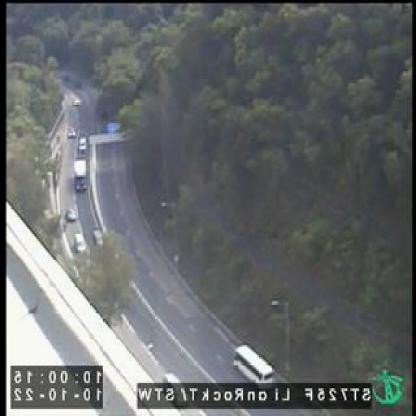Bus: (230, 342, 280, 384)
Car: (92, 228, 104, 249), (75, 235, 87, 252), (78, 137, 87, 154), (67, 207, 77, 221), (68, 127, 76, 140), (74, 95, 82, 108)
Truck: (73, 160, 87, 194)
